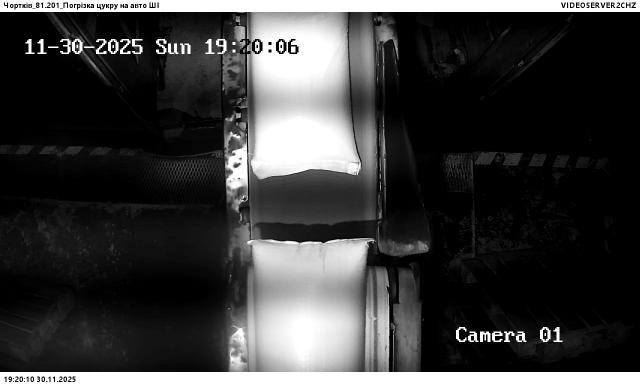bag: (253, 13, 362, 180), (250, 238, 372, 372)
